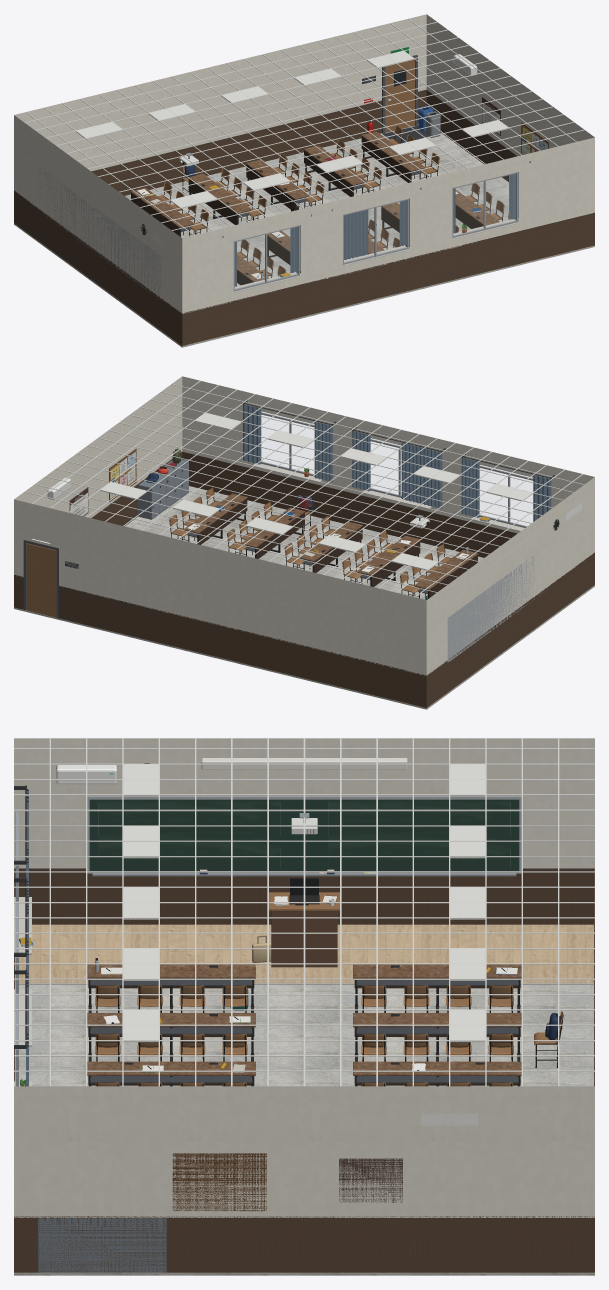
Rendered from linze_202.glb.
The picture shows the model from 3 angles, top to bottom: view 1: azimuth 30°, elevation 25°; view 2: azimuth 150°, elevation 25°; view 3: azimuth 270°, elevation 25°; orthographic projection. The views are drawn at different scales.
Visible parts, largest first — view 1: WALL_N_wall, WALL_S_wall, WALL_ceil_linze_202_grid, WALL_S_wain, WALL_W_wall, linze_202_floorm, WALL_S_glass, WALL_E_wall, WALL_N_wain, linze_202_props, WALL_W_wain, linze_202_desktops (+11 smaller); view 2: WALL_N_wall, WALL_ceil_linze_202_grid, WALL_S_wall, WALL_N_wain, WALL_W_wall, WALL_S_wain, WALL_E_wall, linze_202_floorm, WALL_S_curtain, WALL_W_wain, WALL_W_trim, linze_202_props (+11 smaller); view 3: WALL_E_wall, WALL_ceil_linze_202_grid, WALL_W_wall, linze_202_floorm, WALL_E_wain, WALL_W_wain, linze_202_frontfloor, WALL_W_print, WALL_E_trim, linze_202_desktops, linze_202_metal, linze_202_woodparts (+4 smaller).
Part boxes in pixels (box(x1,y1,x2,y2)): WALL_N_wall: box(14, 14, 426, 171); WALL_S_wall: box(182, 137, 594, 313); WALL_ceil_linze_202_grid: box(24, 18, 584, 235); WALL_S_wain: box(182, 214, 594, 345); WALL_W_wall: box(14, 115, 182, 313); linze_202_floorm: box(14, 124, 594, 347); WALL_S_glass: box(235, 174, 515, 288); WALL_E_wall: box(426, 14, 594, 155); WALL_N_wain: box(93, 91, 426, 195); linze_202_props: box(131, 105, 483, 285); WALL_W_wain: box(14, 192, 182, 345); linze_202_desktops: box(130, 131, 499, 281); WALL_N_wall: box(14, 499, 426, 675); WALL_ceil_linze_202_grid: box(24, 380, 584, 597); WALL_S_wall: box(182, 376, 594, 533); WALL_N_wain: box(14, 576, 426, 707); WALL_W_wall: box(426, 477, 594, 675); WALL_S_wain: box(182, 453, 515, 557); WALL_E_wall: box(14, 376, 182, 517); linze_202_floorm: box(14, 486, 594, 709); WALL_S_curtain: box(243, 404, 551, 521); WALL_W_wain: box(426, 554, 594, 707); WALL_W_trim: box(427, 502, 594, 675); linze_202_props: box(183, 495, 477, 599); WALL_E_wall: box(14, 1086, 594, 1217); WALL_ceil_linze_202_grid: box(14, 738, 594, 1086); WALL_W_wall: box(14, 738, 594, 868); linze_202_floorm: box(14, 984, 594, 1275); WALL_E_wain: box(14, 1218, 594, 1272); WALL_W_wain: box(15, 872, 593, 924); linze_202_frontfloor: box(15, 924, 593, 983); WALL_W_print: box(98, 802, 510, 868); WALL_E_trim: box(14, 1113, 594, 1272); linze_202_desktops: box(87, 964, 521, 1075); linze_202_metal: box(15, 813, 593, 1086); linze_202_woodparts: box(95, 892, 563, 1086).
Size of the model in its own units: 13.6 by 3.45 by 9.6.
18 materials, 10 textured.
